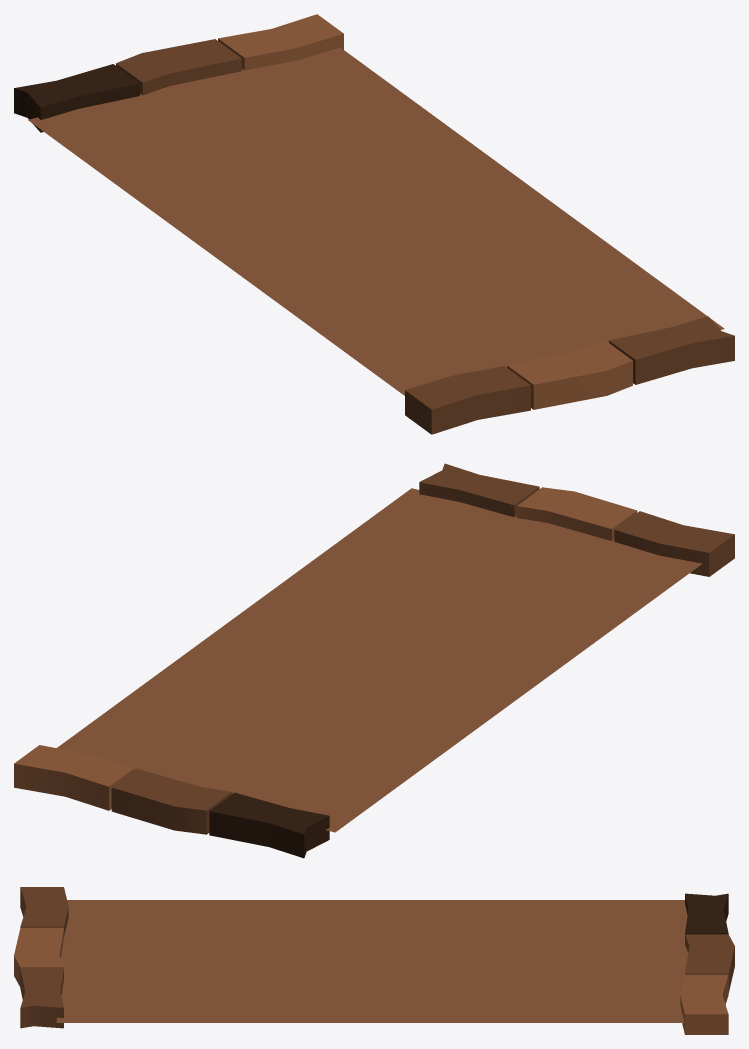
File: TT_Path_Tileable_Bricks.fbx
3 renders of one model, top to bottom at view 1: azimuth 30°, elevation 25°; view 2: azimuth 150°, elevation 25°; view 3: azimuth 270°, elevation 25°, orthographic. The views are drawn at different scales.
Parts seen in each view (by area): view 1: Path_tileable; view 2: Path_tileable; view 3: Path_tileable.
Part boxes in pixels (x1,y1,x2,y2): Path_tileable: (14,14,734,434); Path_tileable: (14,463,734,858); Path_tileable: (14,887,734,1034).
Bounding box in the file's own units: 53.66 × 4.03 × 129.
